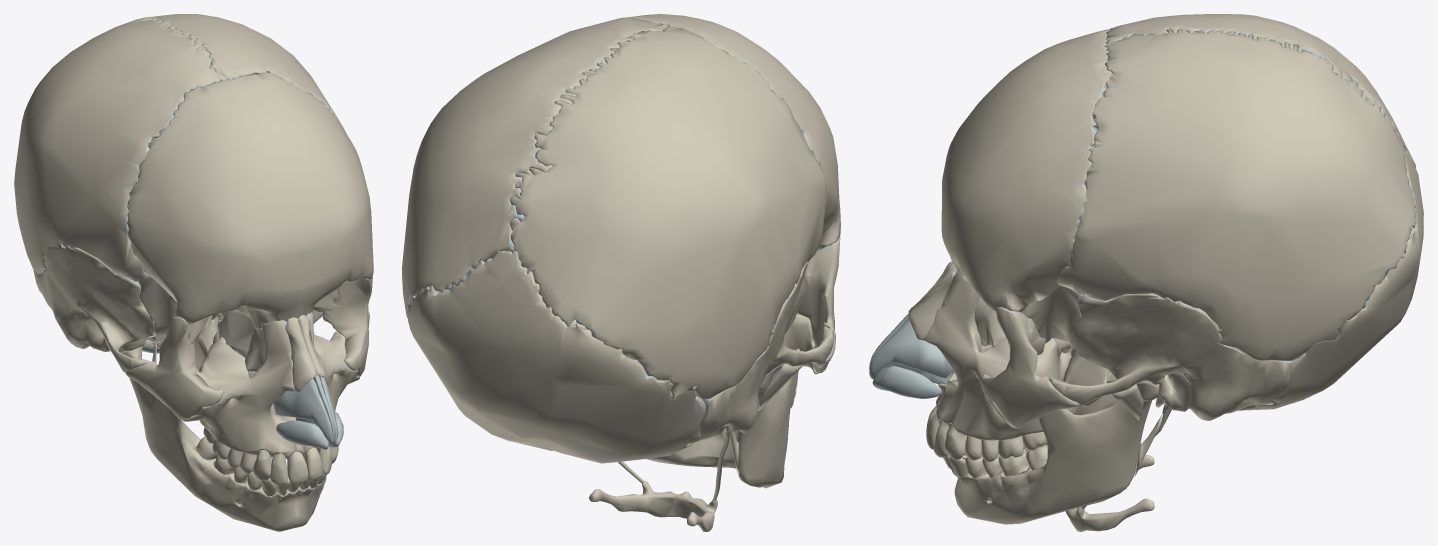
File: detail-skeletal-head.glb
3 renders of one model, left to right at view 1: azimuth 30°, elevation 25°; view 2: azimuth 150°, elevation 25°; view 3: azimuth 270°, elevation 25°, orthographic. The views are drawn at different scales.
Parts seen in each view (by area): view 1: za-8e8f88fe40d45d19, za-6196f4850bc8e322, za-de51bcc0183f9162, za-fe74df8d864e86ce, za-7a850ff504f5d0a8, za-adef6b509aa6600e, za-b4f3d68e8b78bdf4, za-a74c6306255a956f, za-296f37ae76006092, za-fb13b8ec6a77c540, za-c9913c8dd8b31c59, za-30c3ccf9c5916d69 (+8 smaller); view 2: za-6196f4850bc8e322, za-db74fa73231269a8, za-adef6b509aa6600e, za-8e8f88fe40d45d19, za-7a850ff504f5d0a8, za-de51bcc0183f9162, za-b4f3d68e8b78bdf4, za-0ae71842d58abc4e, za-fe74df8d864e86ce, za-b484a60c2197eb3b; view 3: za-adef6b509aa6600e, za-8e8f88fe40d45d19, za-6d36daa5e52931c7, za-7a850ff504f5d0a8, za-fb13b8ec6a77c540, za-db74fa73231269a8, za-6196f4850bc8e322, za-296f37ae76006092, za-a74c6306255a956f, za-8ecd74e535547302, za-b3c460b729e41943, za-0ae71842d58abc4e (+2 smaller).
Part boxes in pixels (x1,y1,x2,y2): za-8e8f88fe40d45d19: (127, 72, 373, 329); za-6196f4850bc8e322: (14, 17, 226, 281); za-de51bcc0183f9162: (33, 243, 155, 372); za-fe74df8d864e86ce: (182, 320, 304, 459); za-7a850ff504f5d0a8: (121, 309, 326, 531); za-adef6b509aa6600e: (140, 14, 361, 166); za-b4f3d68e8b78bdf4: (125, 316, 223, 419); za-a74c6306255a956f: (138, 273, 338, 370); za-296f37ae76006092: (322, 275, 372, 376); za-fb13b8ec6a77c540: (295, 311, 359, 454); za-c9913c8dd8b31c59: (273, 378, 333, 444); za-30c3ccf9c5916d69: (285, 317, 316, 391); za-6196f4850bc8e322: (510, 26, 827, 399); za-db74fa73231269a8: (407, 251, 706, 463); za-adef6b509aa6600e: (402, 17, 668, 318); za-8e8f88fe40d45d19: (629, 14, 840, 250); za-7a850ff504f5d0a8: (646, 348, 800, 488); za-de51bcc0183f9162: (690, 260, 834, 443); za-b4f3d68e8b78bdf4: (797, 235, 840, 373); za-0ae71842d58abc4e: (589, 481, 717, 531); za-fe74df8d864e86ce: (771, 314, 818, 380); za-b484a60c2197eb3b: (758, 363, 803, 410); za-adef6b509aa6600e: (1057, 29, 1416, 360); za-8e8f88fe40d45d19: (941, 29, 1113, 312); za-6d36daa5e52931c7: (1049, 293, 1292, 432); za-7a850ff504f5d0a8: (952, 371, 1151, 524); za-fb13b8ec6a77c540: (924, 271, 1060, 440); za-db74fa73231269a8: (1238, 147, 1423, 410); za-6196f4850bc8e322: (1097, 14, 1415, 167); za-296f37ae76006092: (980, 307, 1078, 428); za-a74c6306255a956f: (1022, 286, 1108, 406); za-8ecd74e535547302: (869, 319, 952, 379); za-b3c460b729e41943: (872, 365, 941, 398); za-0ae71842d58abc4e: (1065, 455, 1154, 531).
Size of the model in its own units: 0.1487 by 0.2139 by 0.2191.
